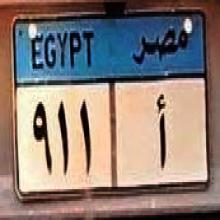1: (57, 96, 73, 181), (79, 100, 96, 172)
9: (32, 95, 54, 177)
alif: (152, 94, 170, 174)
